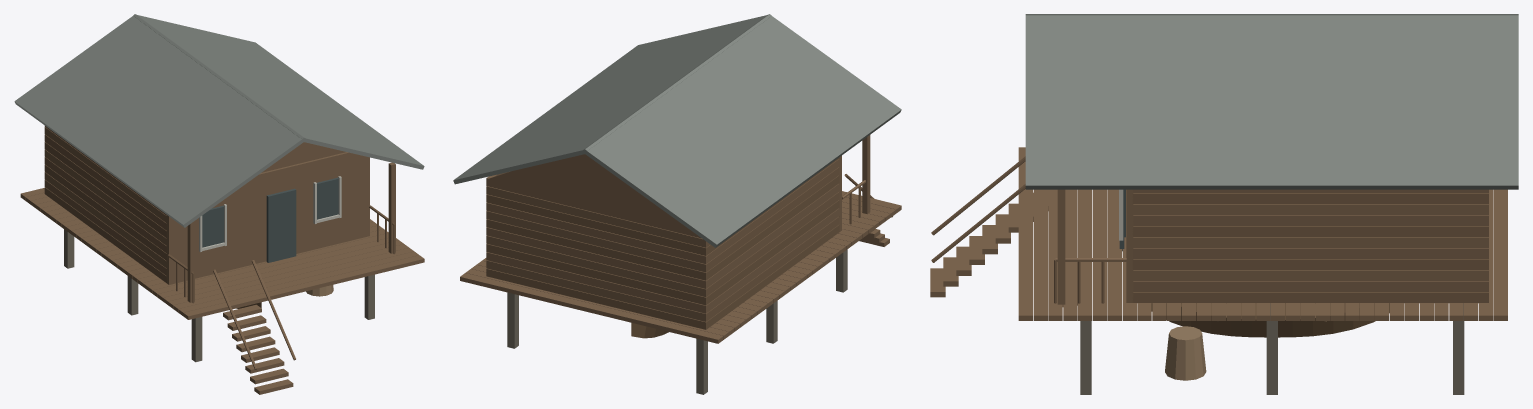
Rendered from thai_stilt_a.glb.
The picture shows the model from 3 angles, left to right: view 1: azimuth 30°, elevation 25°; view 2: azimuth 150°, elevation 25°; view 3: azimuth 270°, elevation 25°; orthographic projection. The views are drawn at different scales.
Visible parts, largest first — view 1: thai_stilt_a; view 2: thai_stilt_a; view 3: thai_stilt_a.
Part boxes in pixels (x1,y1,x2,y2): thai_stilt_a: (14, 14, 424, 394); thai_stilt_a: (453, 14, 901, 394); thai_stilt_a: (930, 14, 1518, 394).
Size of the model in its own units: 6.84 by 5.87 by 9.91.
